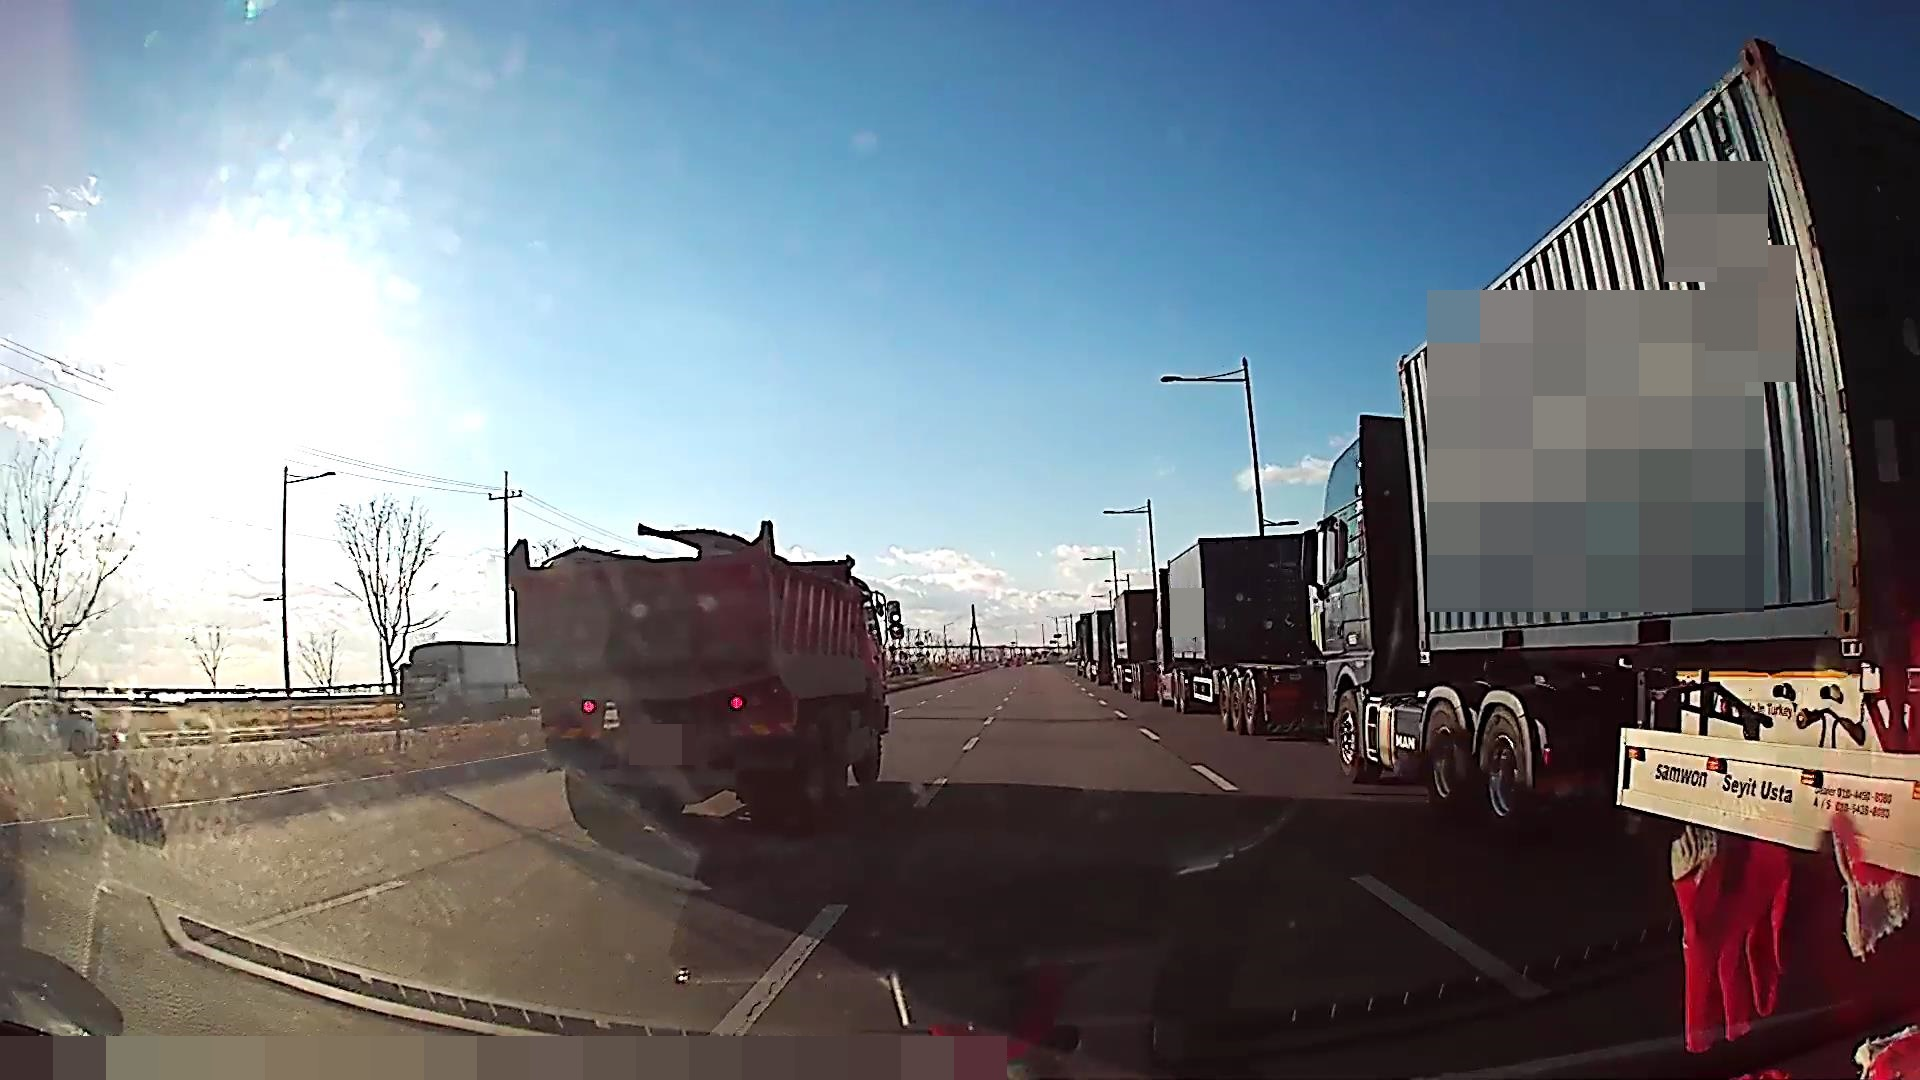불법차량: (508, 520, 905, 839)
